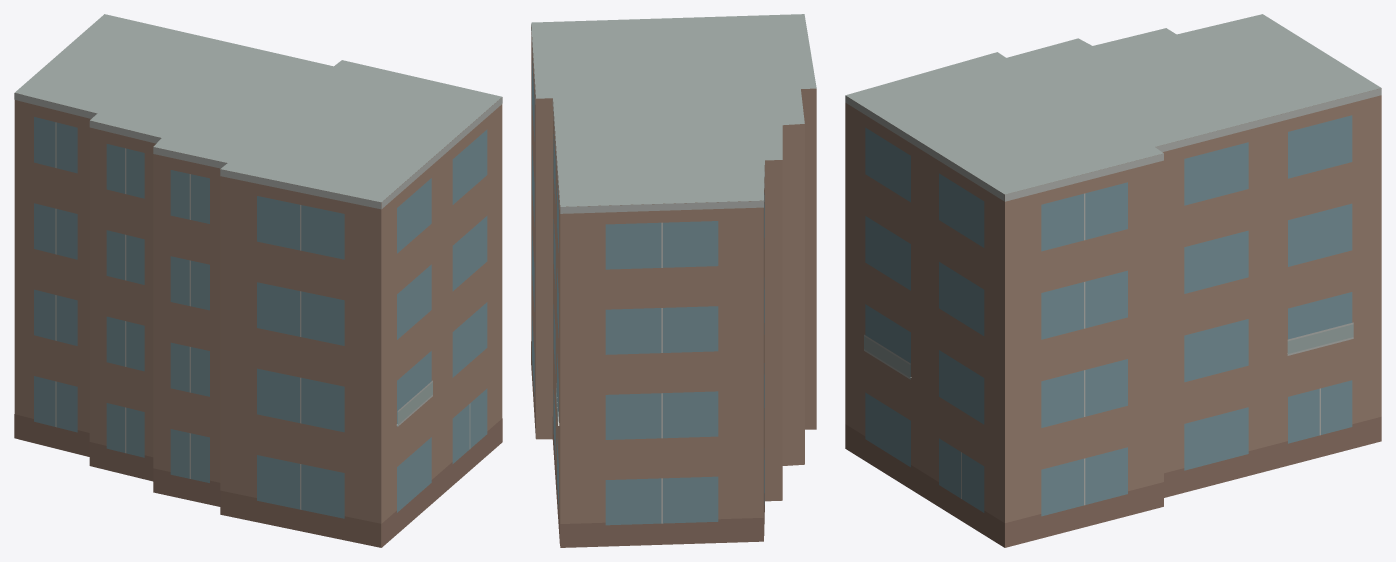
The model's file is survey-upis-33035103.glb.
3 views of the same model, side by side, from view 1: azimuth 30°, elevation 25°; view 2: azimuth 150°, elevation 25°; view 3: azimuth 270°, elevation 25° (orthographic). The views are drawn at different scales.
Visible parts, largest first — view 1: survey-upis-33035103.tmp; view 2: survey-upis-33035103.tmp; view 3: survey-upis-33035103.tmp.
Part boxes in pixels (box(x1,y1,x2,y2)): survey-upis-33035103.tmp: box(14, 14, 502, 547); survey-upis-33035103.tmp: box(531, 14, 816, 547); survey-upis-33035103.tmp: box(845, 14, 1381, 547).
Bounding box in the file's own units: 13.16 × 12 × 16.52.
